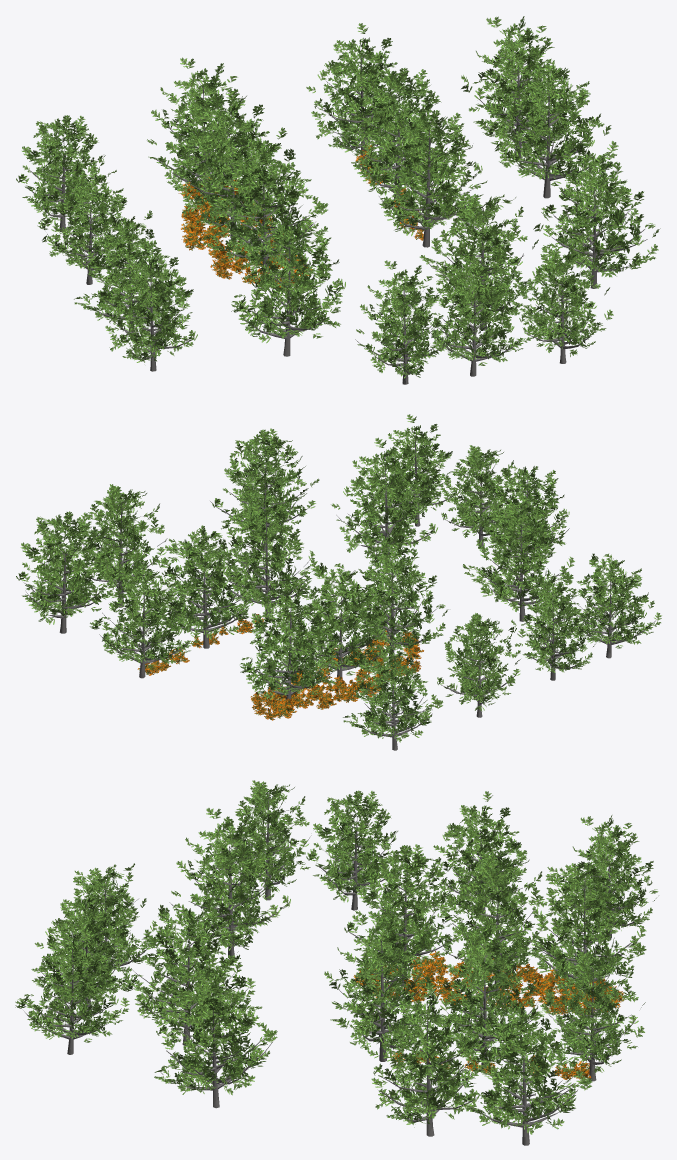
Rendered from zimCreateArchive_Area02_Tree.fbx.
The picture shows the model from 3 angles, top to bottom: view 1: azimuth 30°, elevation 25°; view 2: azimuth 150°, elevation 25°; view 3: azimuth 270°, elevation 25°; orthographic projection. The views are drawn at different scales.
Visible parts, largest first — view 1: Tree-Spread_2, Tree-Trunk, Tree-Spread; view 2: Tree-Spread_2, Tree-Trunk, Tree-Spread; view 3: Tree-Spread_2, Tree-Trunk, Tree-Spread.
Part boxes in pixels (bbox=[...]): Tree-Spread_2: bbox=[16, 16, 660, 378]; Tree-Trunk: bbox=[26, 38, 650, 384]; Tree-Spread: bbox=[178, 145, 424, 287]; Tree-Spread_2: bbox=[16, 414, 661, 742]; Tree-Trunk: bbox=[23, 438, 655, 750]; Tree-Spread: bbox=[137, 614, 423, 720]; Tree-Spread_2: bbox=[15, 780, 658, 1134]; Tree-Trunk: bbox=[21, 795, 643, 1145]; Tree-Spread: bbox=[353, 951, 623, 1079].
Bounding box in the file's own units: 60.1 × 56.03 × 13.68.
3 materials, 2 textured.
